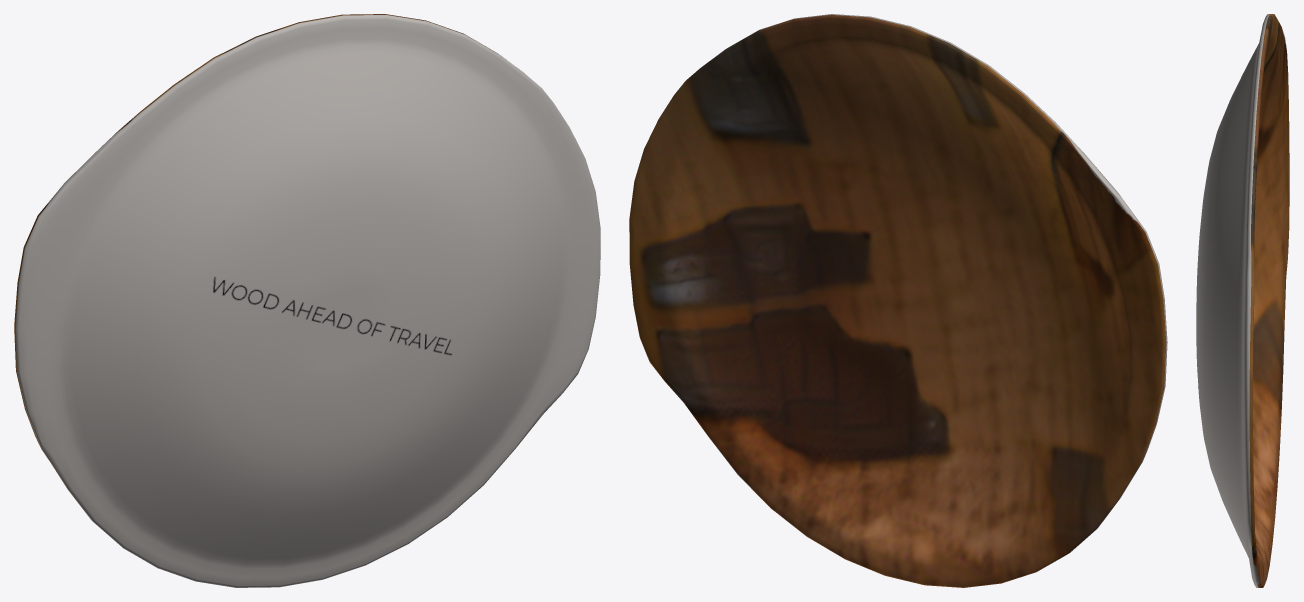
3 views of the same model, side by side, from view 1: azimuth 30°, elevation 25°; view 2: azimuth 150°, elevation 25°; view 3: azimuth 270°, elevation 25° (orthographic). The views are drawn at different scales.
Visible parts, largest first — view 1: bluewhitered39:_bluewhitered_39_remodel1 group; view 2: bluewhitered39:_bluewhitered_39_remodel1 group; view 3: bluewhitered39:_bluewhitered_39_remodel1 group.
Boxes of the visible parts, <box> form: bluewhitered39:_bluewhitered_39_remodel1 group: <box>14,14,600,587</box>; bluewhitered39:_bluewhitered_39_remodel1 group: <box>629,14,1167,587</box>; bluewhitered39:_bluewhitered_39_remodel1 group: <box>1196,14,1289,587</box>.
Size of the model in its own units: 8.8 by 8.37 by 1.36.
1 material, 1 textured.
